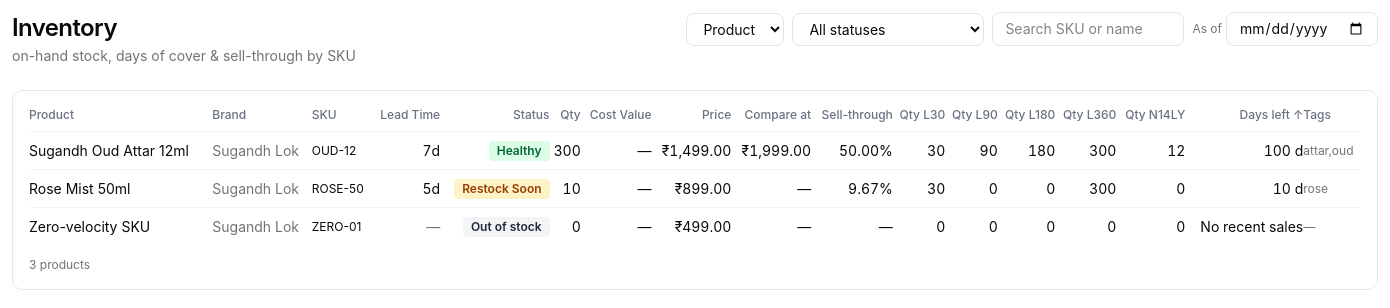
Test: InventoryContent — lead-time editor › clicking a lead-time cell shows a number input
Click the cell with test id "lead-time-cell-OUD-12". click: (431, 150)
box: [371,132,440,170]
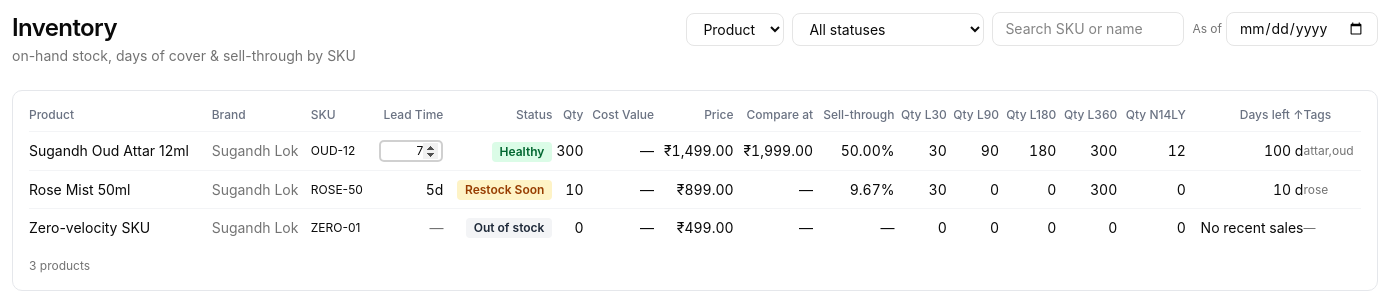
Now the number field with test id "lead-time-input-OUD-12" is shown, box [379,140,443,162]
